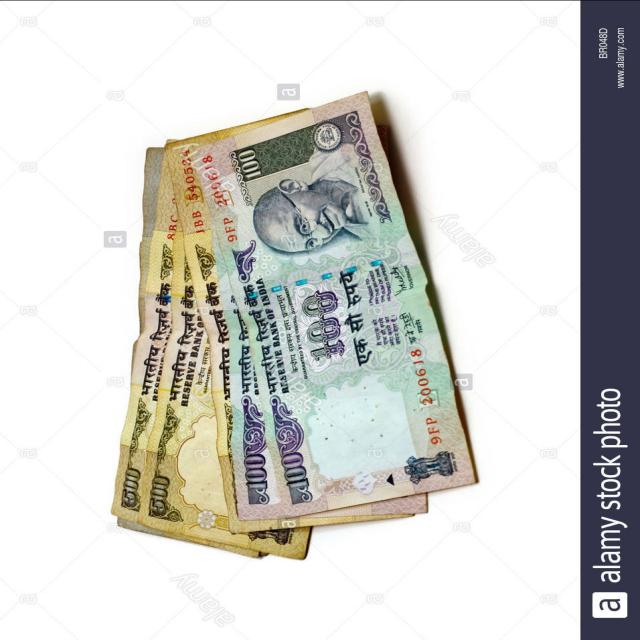100IndianRupees: (176, 89, 477, 519)
